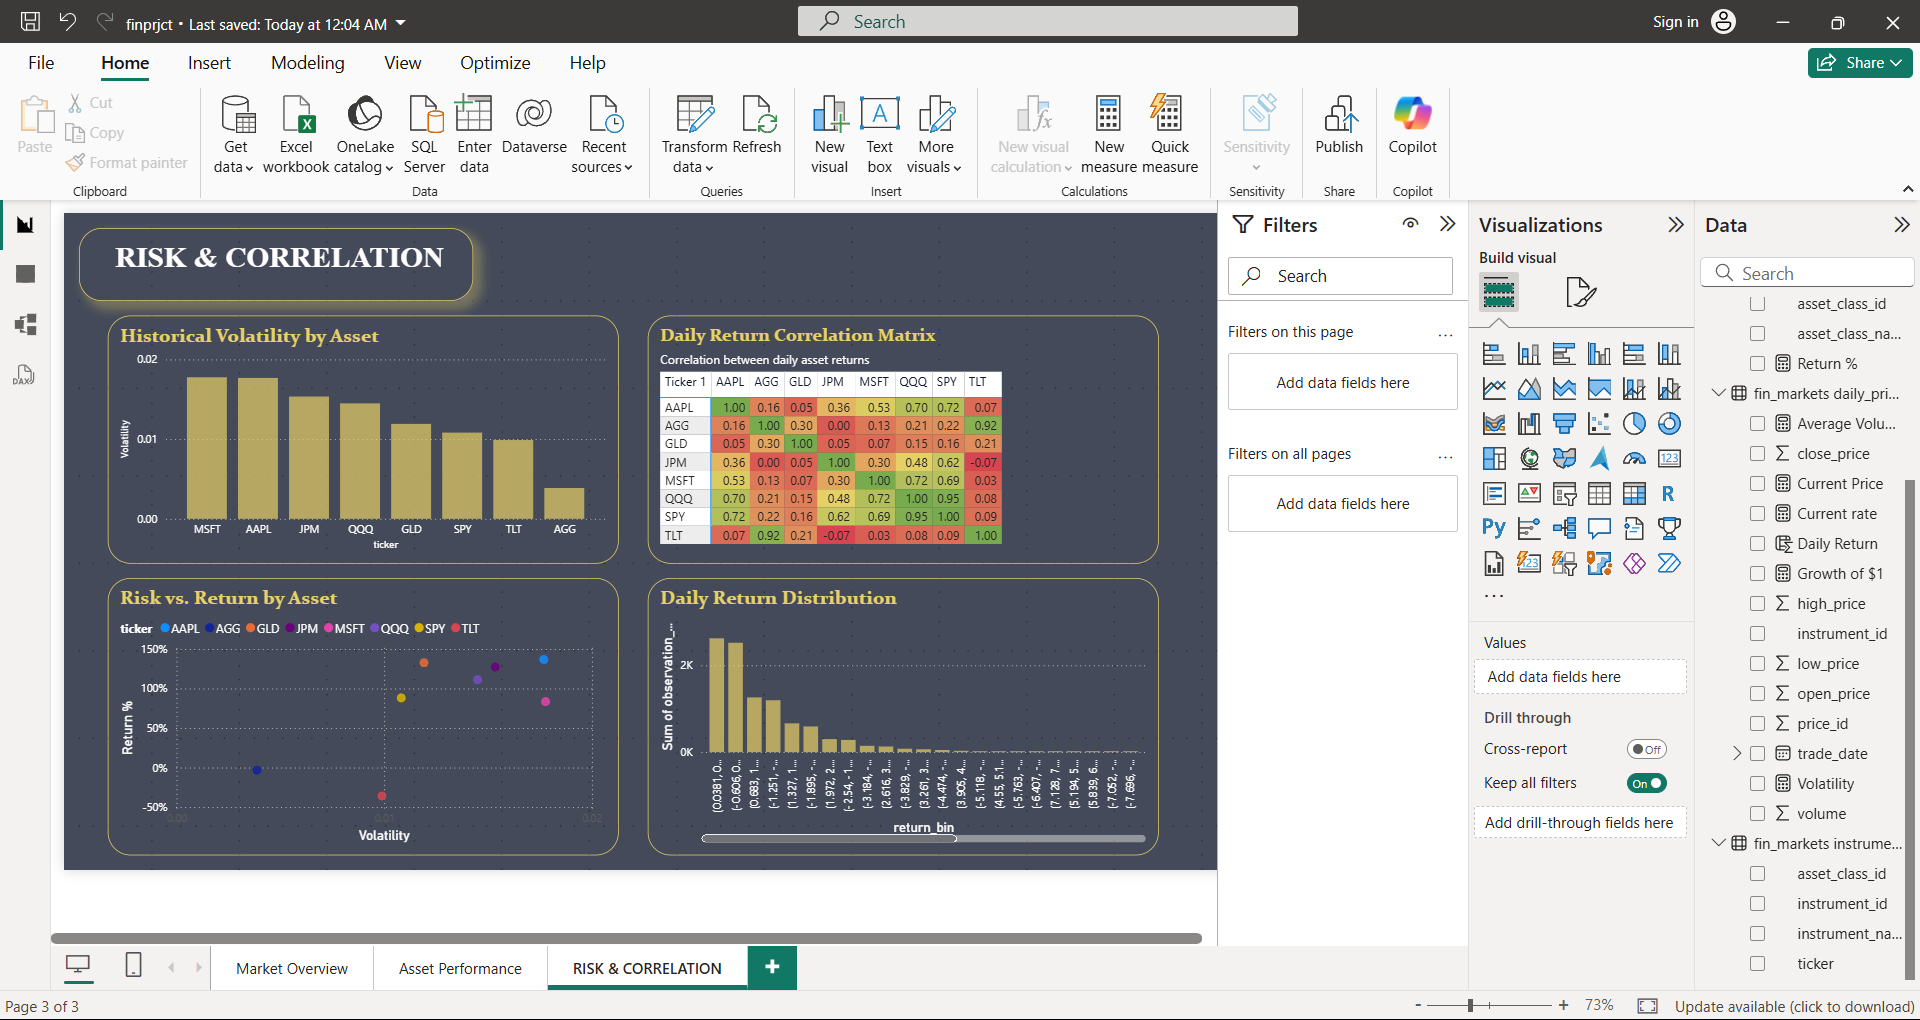

What the dashboard file says about the page in this screenshot:
{"tool":"powerbi","page":{"name":"RISK & CORRELATION","canvas":[1280,720],"ordinal":2},"visuals":[{"type":"textbox","box":[16,16,432,80],"z":0},{"type":"clusteredColumnChart","title":"Historical Volatility by Asset","fields":{"Y":["fin_markets daily_prices.Volatility"],"Category":["fin_markets instruments.ticker"]},"box":[48,112,560,272],"z":1000},{"type":"scatterChart","title":"Risk vs. Return by Asset","fields":{"X":["fin_markets daily_prices.Volatility"],"Y":["fin_markets asset_classes.Return %"],"Series":["fin_markets instruments.ticker"]},"box":[48,400,560,304],"z":2000},{"type":"pivotTable","title":"Daily Return Correlation Matrix","fields":{"Rows":["asset_correlation.Ticker 1"],"Columns":["asset_correlation.Ticker 2"],"Values":["Sum(asset_correlation.Correlation)"]},"box":[640,112,560,272],"z":3000},{"type":"clusteredColumnChart","title":"Daily Return Distribution","fields":{"Category":["daily_return_distribution.return_bin"],"Y":["Sum(daily_return_distribution.observation_count)"]},"box":[640,400,560,304],"z":4000}]}

Visuals, with their boxes on the page's 1280x720 design canvas (x1, y1, x2, y2). These are canvas units, not pixel positions in the 1920x1020 screenshot, which may show the page scaled, cropped or inside an application window:
textbox: {"left": 16, "top": 16, "right": 448, "bottom": 96}
"Historical Volatility by Asset" clusteredColumnChart: {"left": 48, "top": 112, "right": 608, "bottom": 384}
"Risk vs. Return by Asset" scatterChart: {"left": 48, "top": 400, "right": 608, "bottom": 704}
"Daily Return Correlation Matrix" pivotTable: {"left": 640, "top": 112, "right": 1200, "bottom": 384}
"Daily Return Distribution" clusteredColumnChart: {"left": 640, "top": 400, "right": 1200, "bottom": 704}
